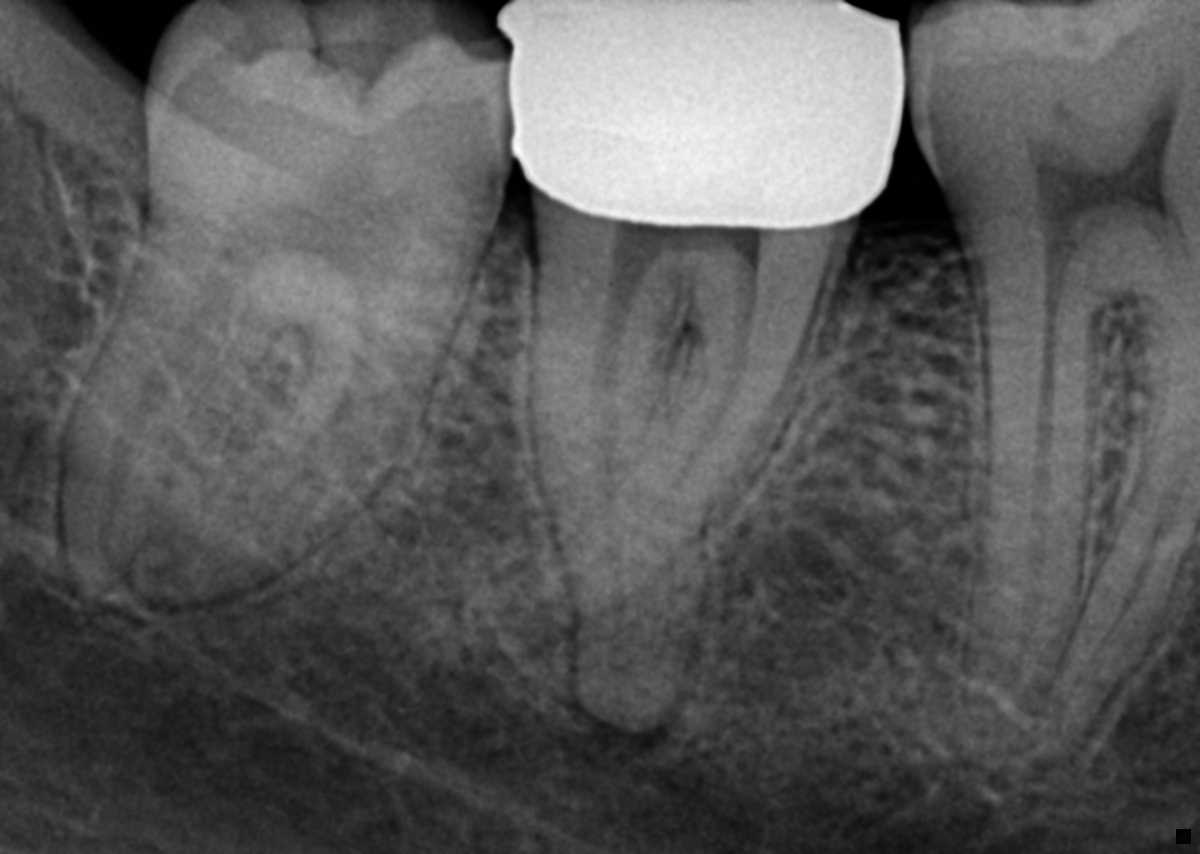Apical Lesion: (565, 686, 682, 764)
Distal Canal: (98, 263, 252, 569), (1006, 230, 1075, 697), (593, 243, 658, 703)
Distal Root: (927, 194, 1114, 772), (524, 197, 722, 733), (60, 229, 280, 598)
Mesial Canal: (481, 252, 767, 632), (154, 284, 381, 571), (1053, 423, 1195, 714)
Mesial Root: (453, 220, 850, 660), (133, 324, 451, 605), (1049, 279, 1200, 766)
